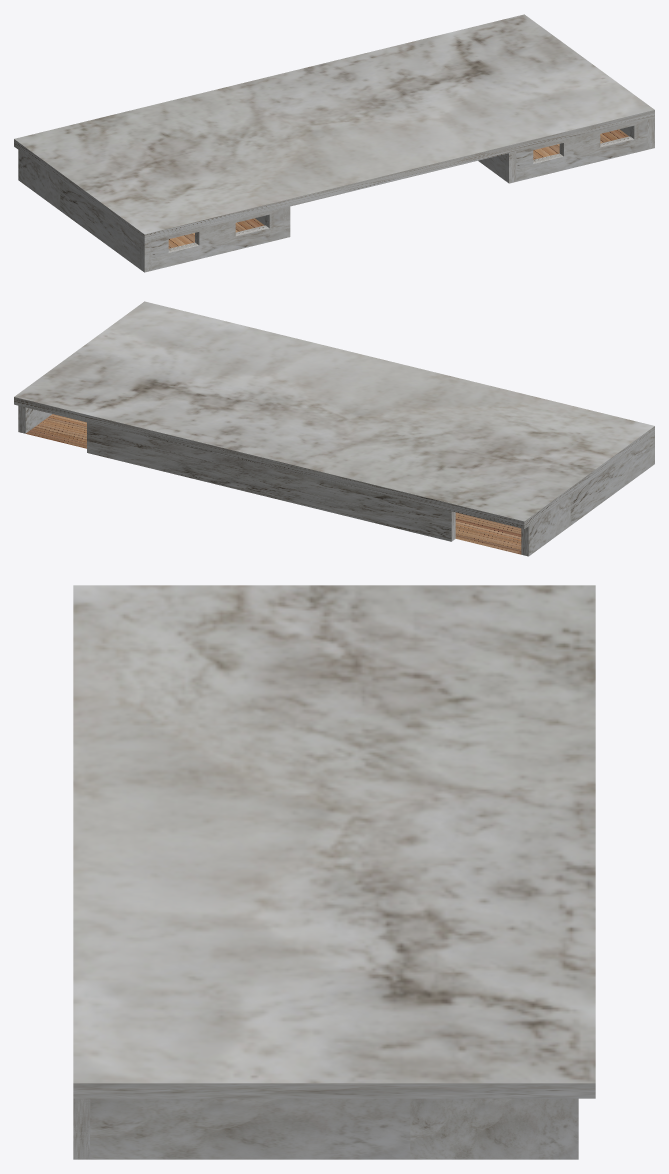
The model's file is Kyoshitsu_part4.fbx.
3 renders of one model, top to bottom at view 1: azimuth 30°, elevation 25°; view 2: azimuth 150°, elevation 25°; view 3: azimuth 270°, elevation 25°, orthographic. The views are drawn at different scales.
Visible parts, largest first — view 1: pCube19, pCube12, pCube3, pCube13, pCube15, pCube2, pPlane3, pPlane1; view 2: pCube19, pCube9, pPlane2, pCube13, pCube15, pCube10; view 3: pCube19, pCube1, pCube10, pCube3.
Part boxes in pixels (bbox=[...]): pCube19: bbox=[14, 14, 654, 241]; pCube12: bbox=[140, 206, 290, 272]; pCube3: bbox=[505, 118, 654, 183]; pCube13: bbox=[60, 181, 151, 271]; pCube15: bbox=[18, 150, 60, 210]; pCube2: bbox=[478, 151, 516, 182]; pPlane3: bbox=[168, 218, 264, 248]; pPlane1: bbox=[533, 129, 628, 159]; pCube19: bbox=[14, 301, 654, 528]; pCube9: bbox=[87, 422, 455, 541]; pPlane2: bbox=[26, 414, 521, 554]; pCube13: bbox=[570, 434, 654, 525]; pCube15: bbox=[521, 495, 570, 556]; pCube10: bbox=[18, 405, 51, 433]; pCube19: bbox=[73, 585, 595, 1098]; pCube1: bbox=[73, 1098, 410, 1159]; pCube10: bbox=[410, 1098, 578, 1159]; pCube3: bbox=[73, 1098, 90, 1159].
Size of the model in its own units: 35 by 2.5 by 15.5.
Materials: 2 (2 with a texture image).
